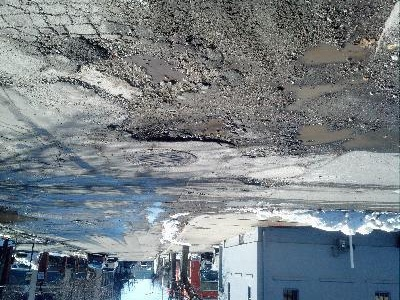pothole: (92, 37, 217, 104), (119, 112, 238, 149), (281, 121, 386, 155), (294, 40, 374, 72), (277, 81, 347, 114), (237, 175, 291, 187)
